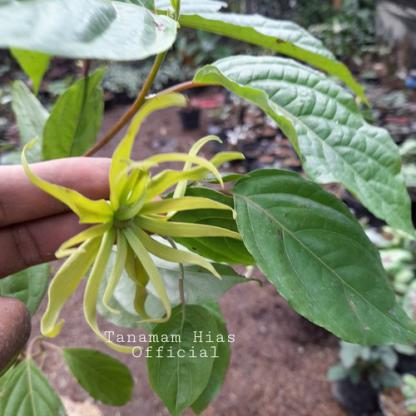Kenanga: (70, 167, 182, 299)
